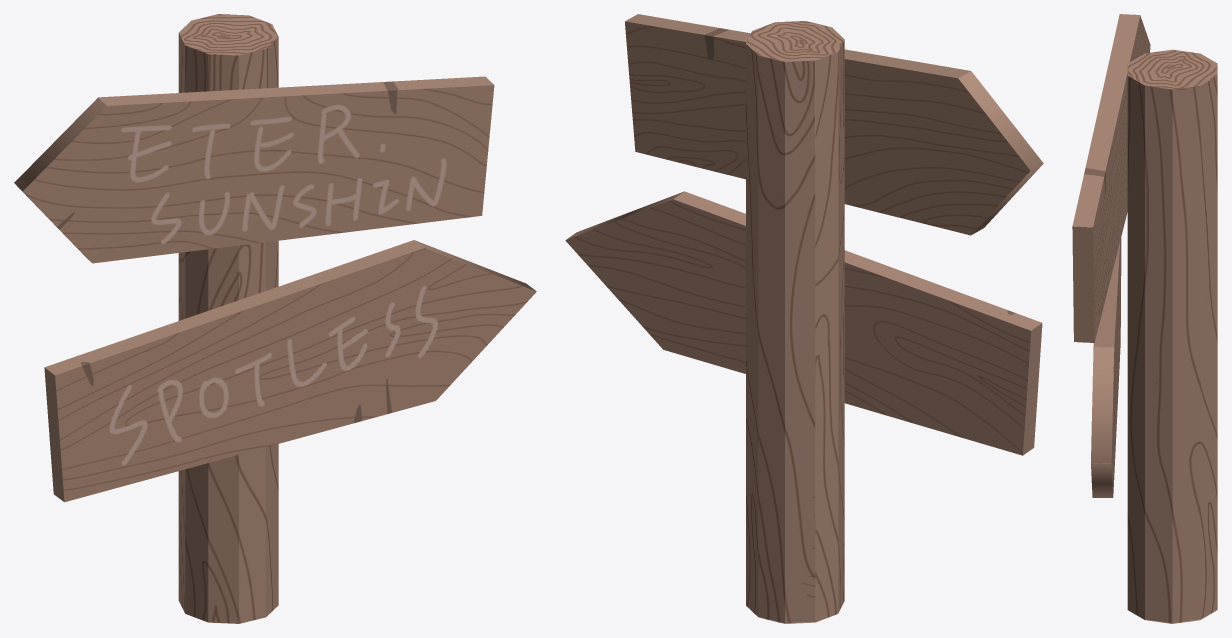
Rendered from 村子木牌.fbx.
The picture shows the model from 3 angles, left to right: view 1: azimuth 30°, elevation 25°; view 2: azimuth 150°, elevation 25°; view 3: azimuth 270°, elevation 25°; orthographic projection. The views are drawn at different scales.
Visible parts, largest first — view 1: pCube3; view 2: pCube3; view 3: pCube3.
Boxes of the visible parts, x1=… form: pCube3: x1=14, y1=14, x2=536, y2=623; pCube3: x1=565, y1=14, x2=1043, y2=623; pCube3: x1=1072, y1=14, x2=1217, y2=623.
Bounding box in the file's own units: 9.09 × 10 × 2.46.
